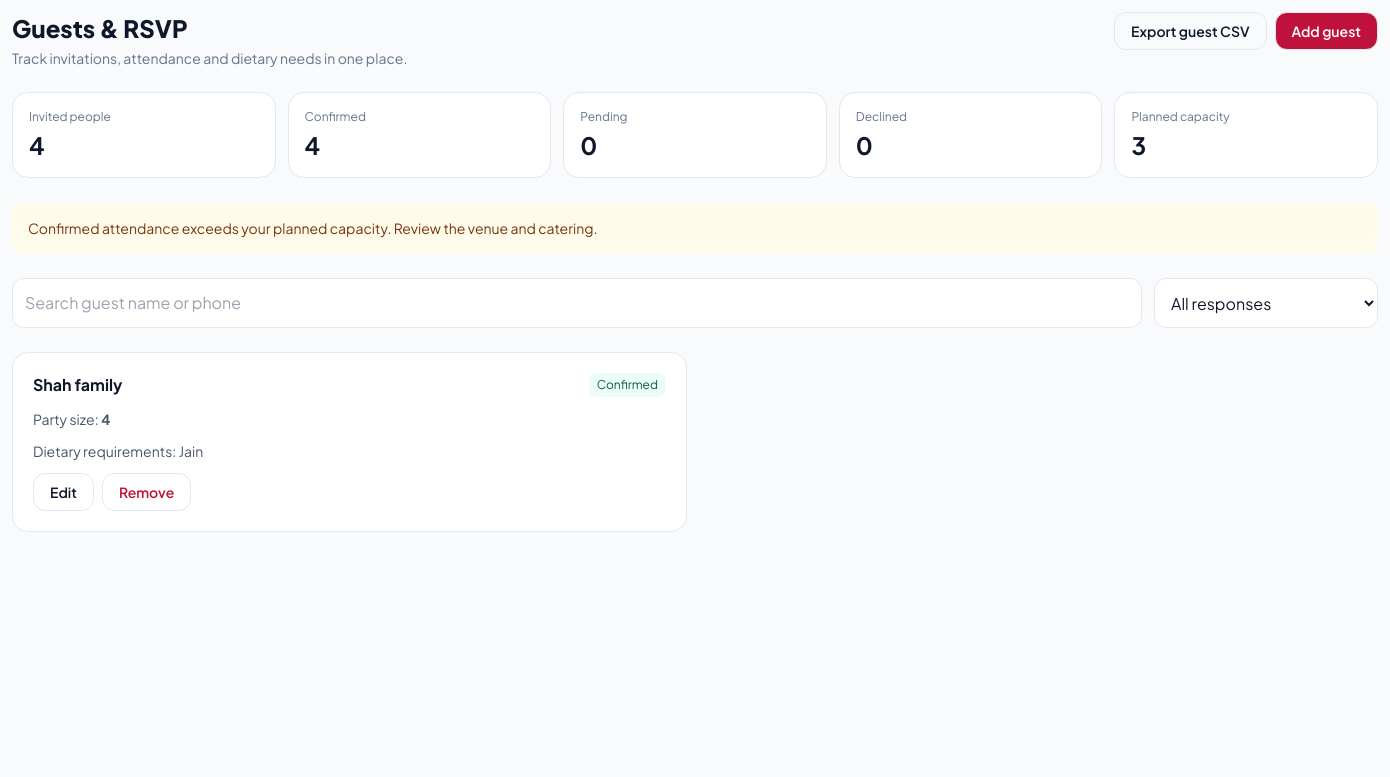
Test: Guest workspace › submits a guest and reloads the attendance summary
Expected: the heading "Shah family" is shown, x1=33 y1=373 x2=122 y2=397
Click the button "Add guest".
click(1326, 31)  # box x1=1275 y1=12 x2=1378 y2=50
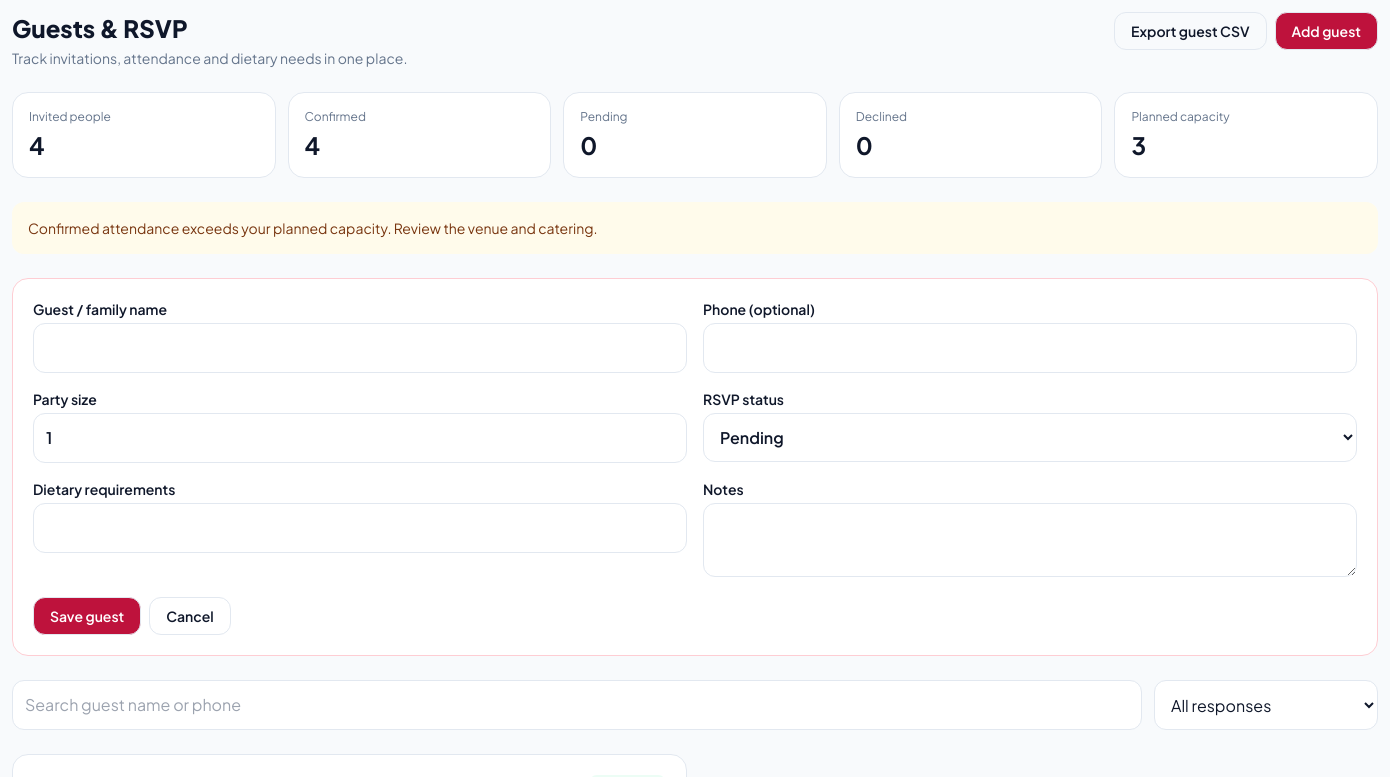
Type "Patel family" into the field labelled "Guest / family name".
click(360, 348); type("Patel family")  # box x1=33 y1=323 x2=687 y2=373
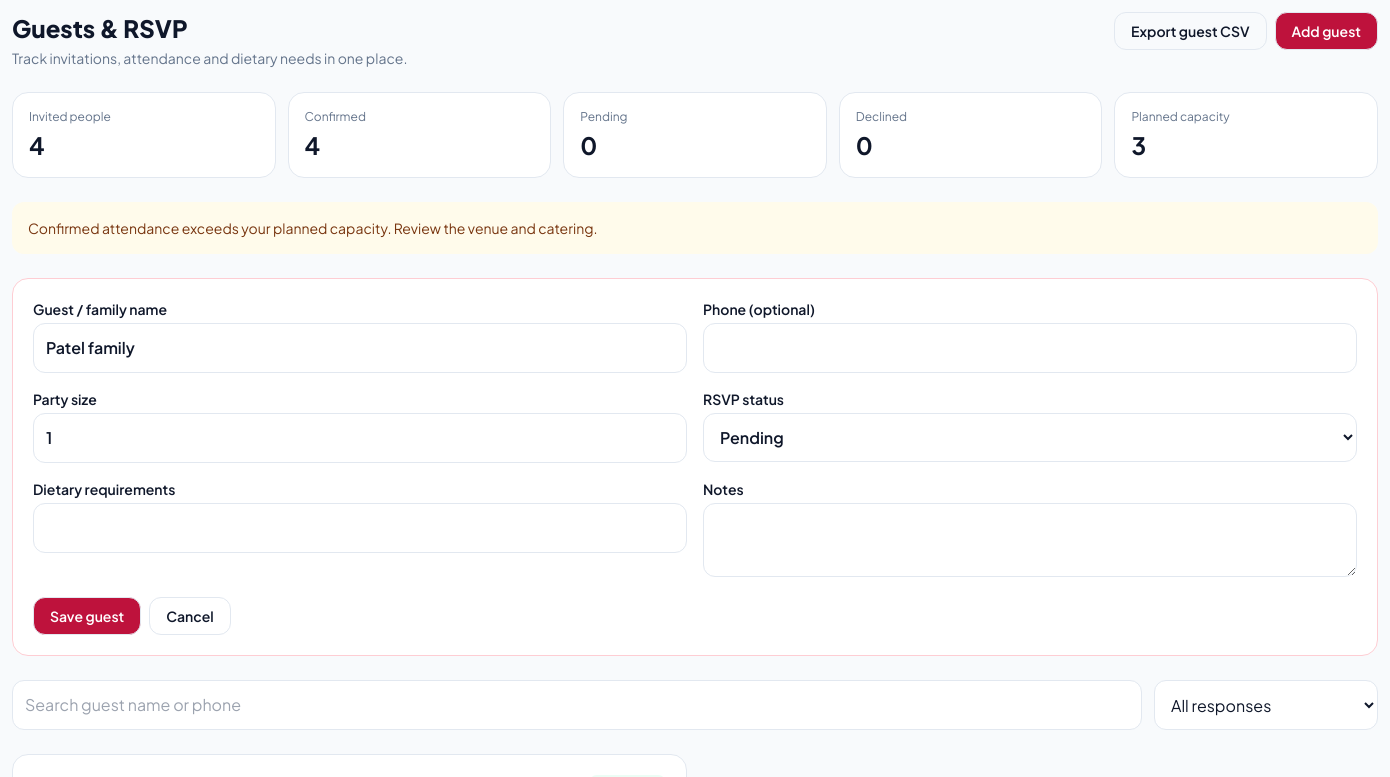
Replace the text in the number field labelled "Party size" with "3" at (360, 438), box x1=33 y1=413 x2=687 y2=463
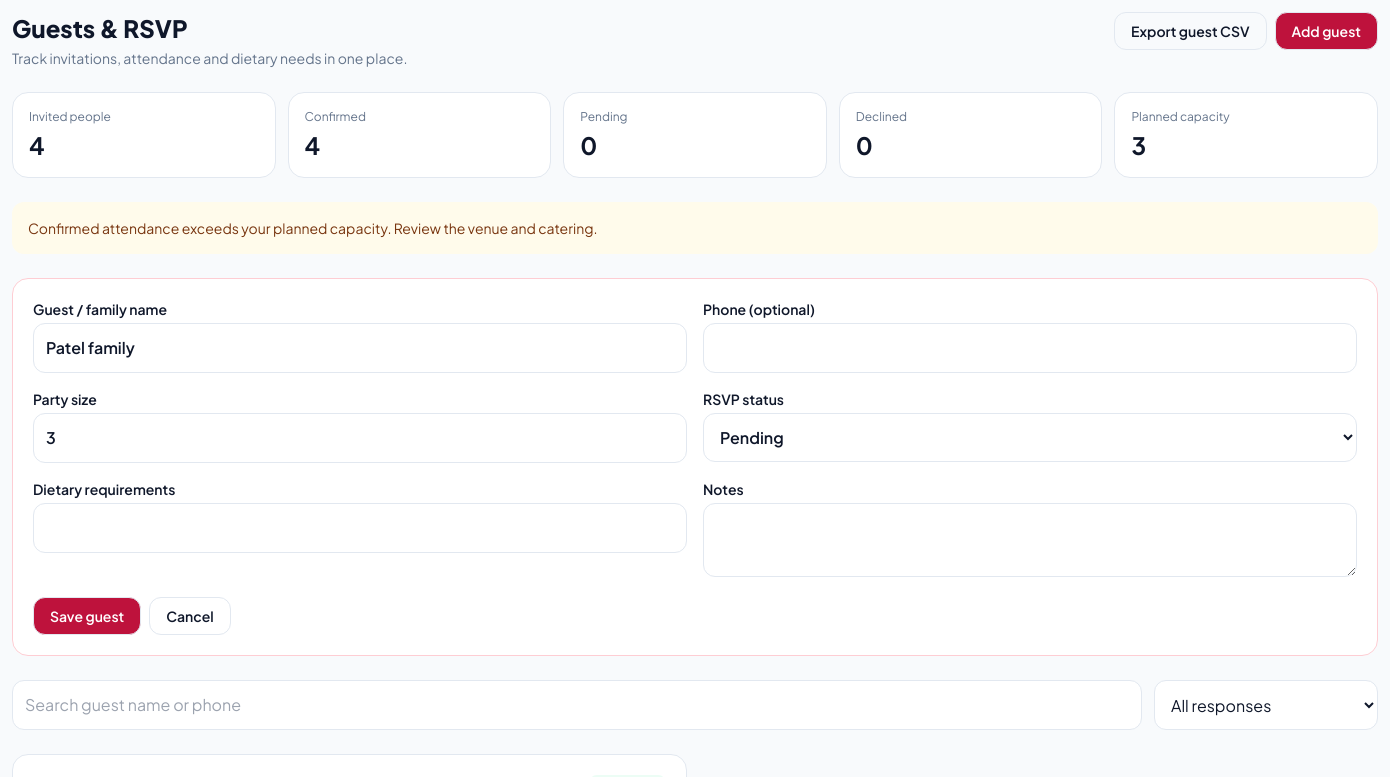
Click the button "Save guest".
click(87, 616)  # box x1=33 y1=597 x2=141 y2=635
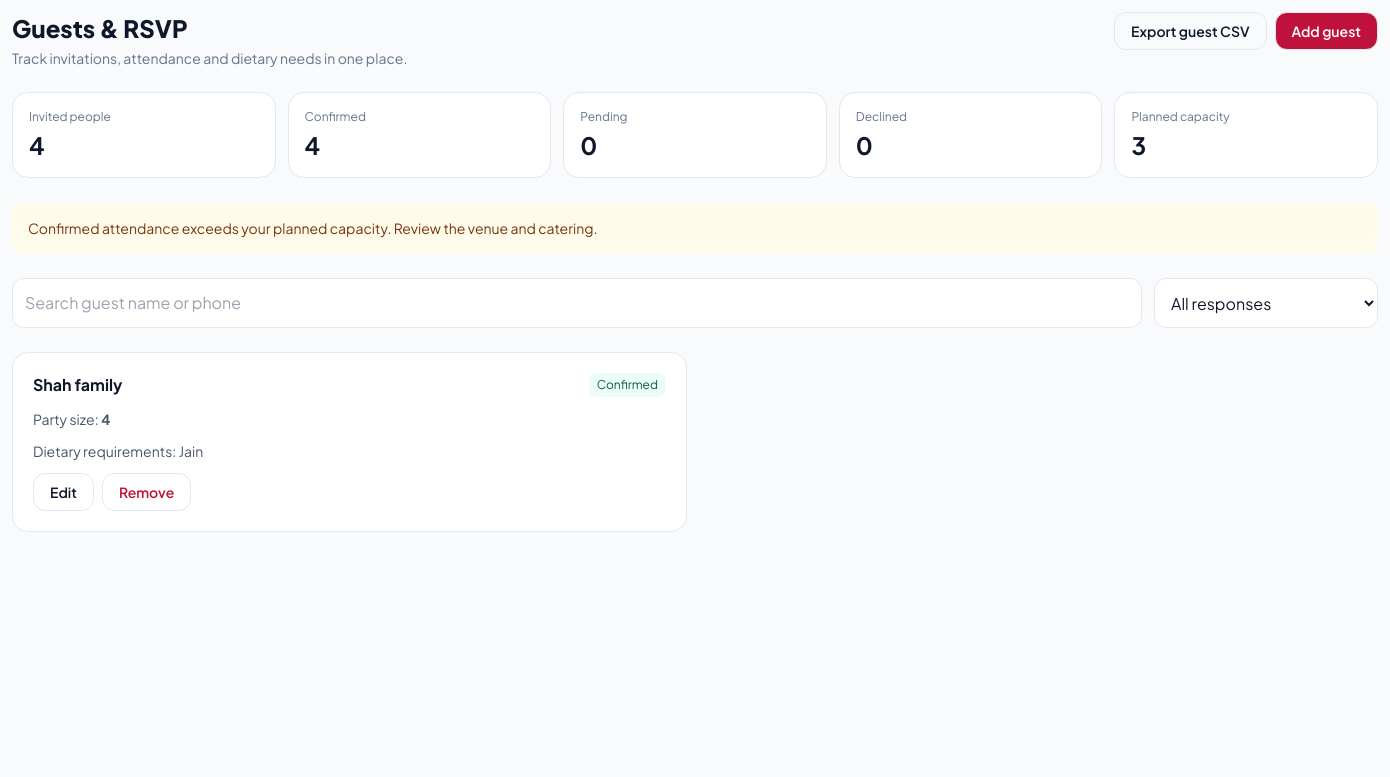
Expected: the button "Save guest" is gone
